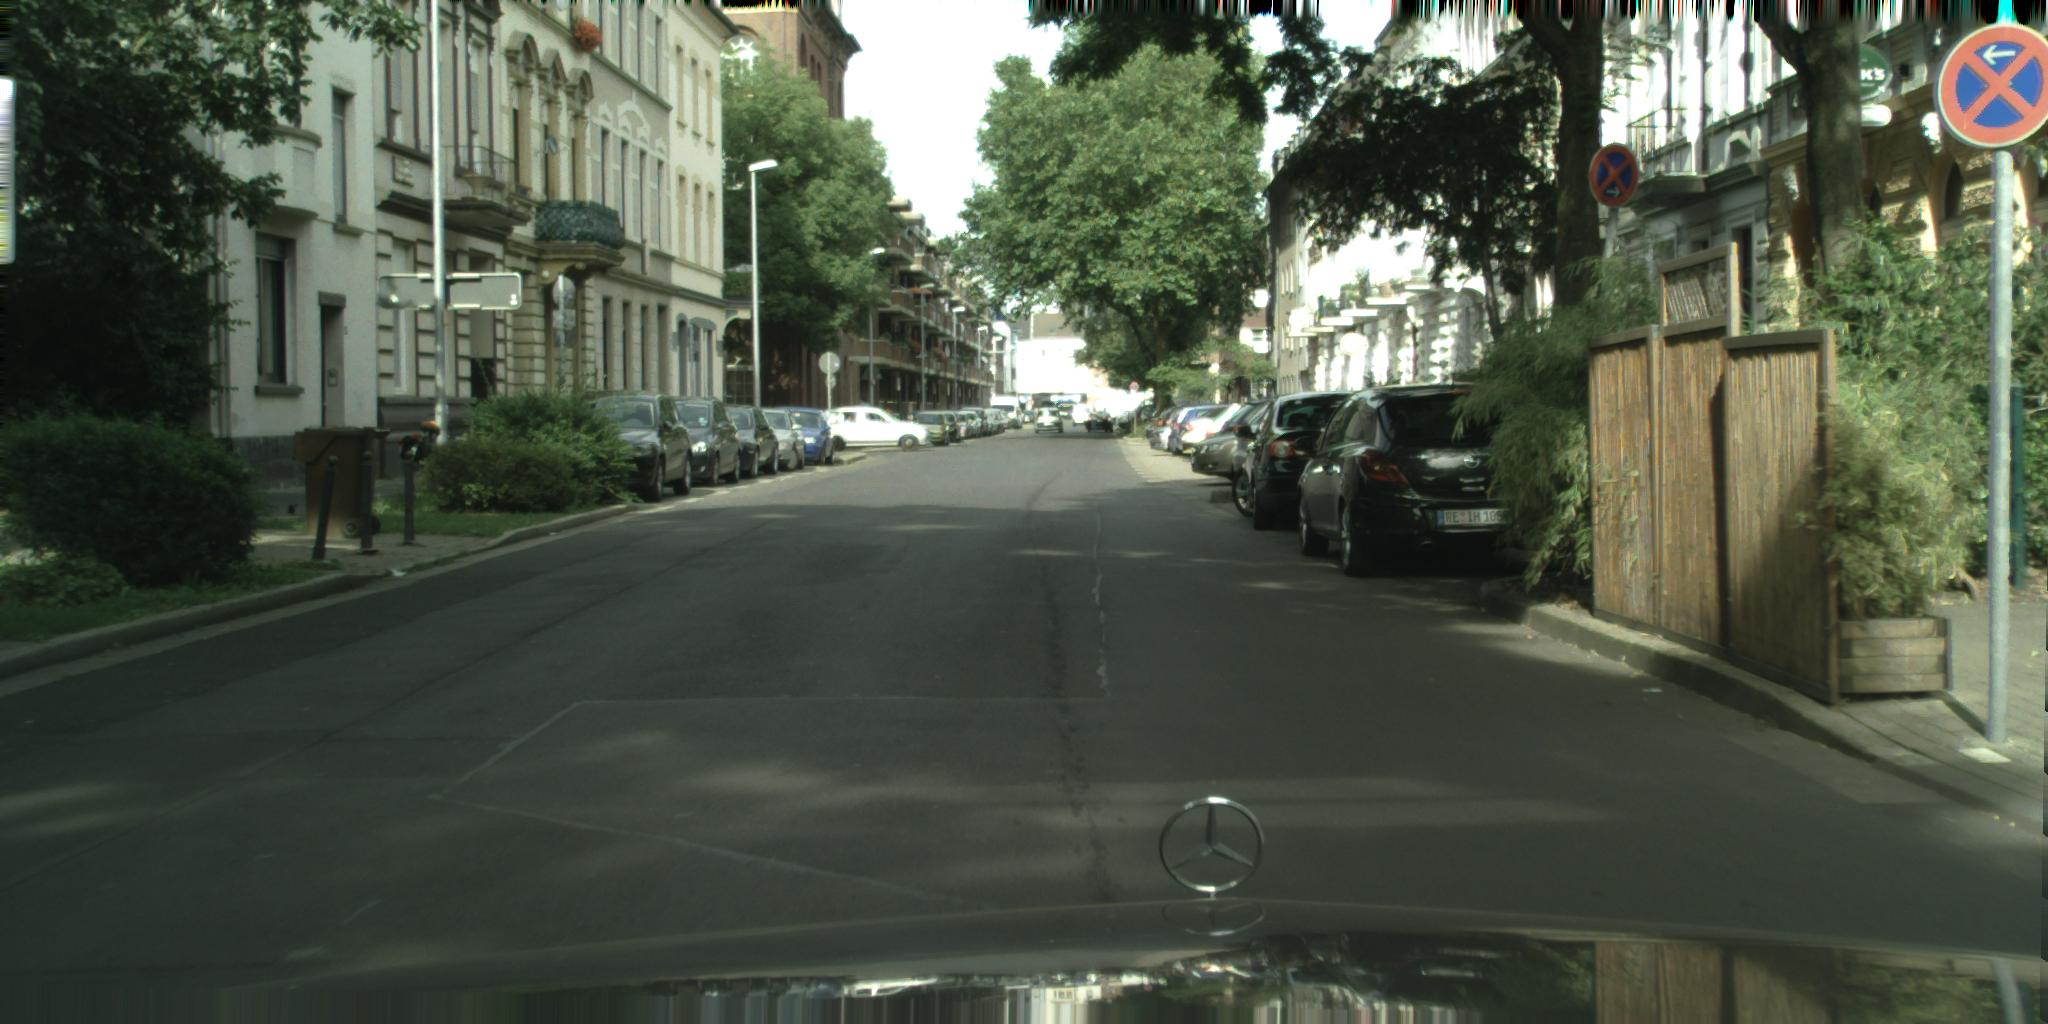bicycle: (401, 423, 438, 477)
car: (1294, 383, 1523, 579), (1232, 391, 1365, 532), (554, 389, 694, 503), (1192, 398, 1281, 486), (670, 396, 743, 487), (825, 408, 931, 453), (722, 404, 781, 479), (1220, 392, 1301, 443), (1230, 400, 1277, 481), (775, 406, 837, 466), (758, 408, 808, 473), (916, 411, 951, 448), (1206, 408, 1240, 443), (991, 398, 1024, 428), (1034, 408, 1064, 435), (951, 411, 974, 440), (942, 413, 963, 443)
